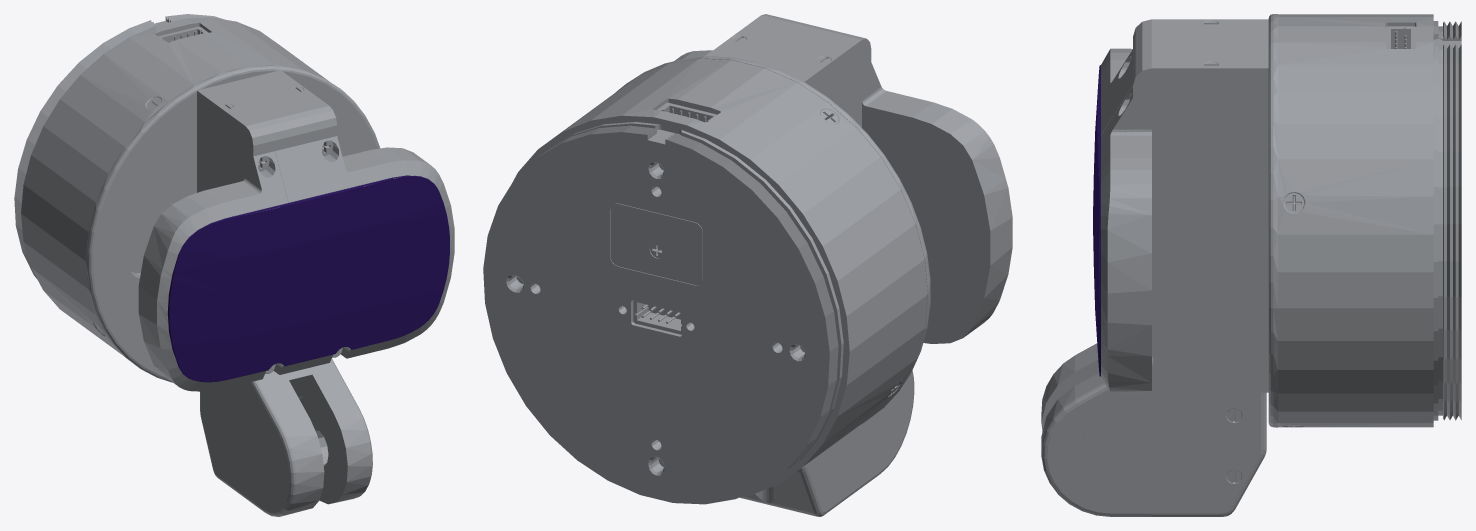
3 renders of one model, left to right at view 1: azimuth 30°, elevation 25°; view 2: azimuth 150°, elevation 25°; view 3: azimuth 270°, elevation 25°, orthographic. The views are drawn at different scales.
Parts seen in each view (by area): view 1: base_link, base_link_mat; view 2: base_link; view 3: base_link, base_link_mat.
Boxes of the visible parts, left/top/right/bottom form: base_link: left=14, top=14, right=454, bottom=516; base_link_mat: left=168, top=175, right=449, bottom=382; base_link: left=483, top=14, right=1012, bottom=516; base_link: left=1041, top=14, right=1461, bottom=516; base_link_mat: left=1093, top=65, right=1100, bottom=376.
Bounding box in the file's own units: 0.089 × 0.1095 × 0.0904.
